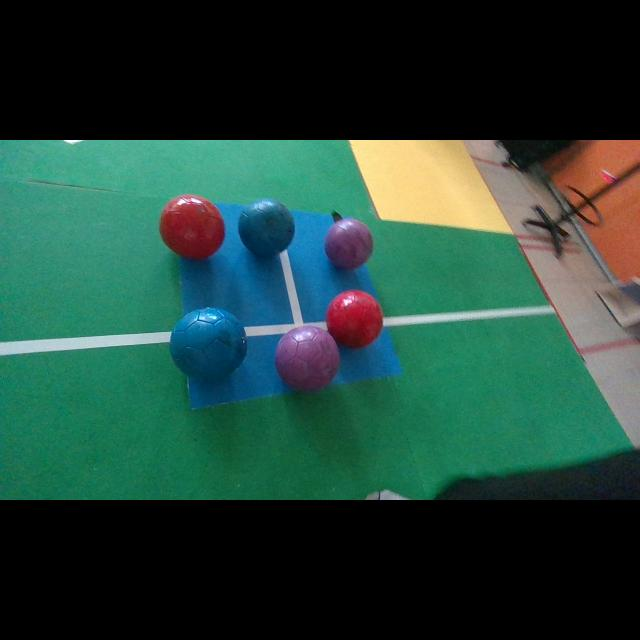B: (170, 308, 248, 379), (239, 199, 295, 256)
P: (275, 326, 340, 391), (325, 219, 374, 268)
R: (159, 195, 225, 258), (326, 290, 382, 348)
